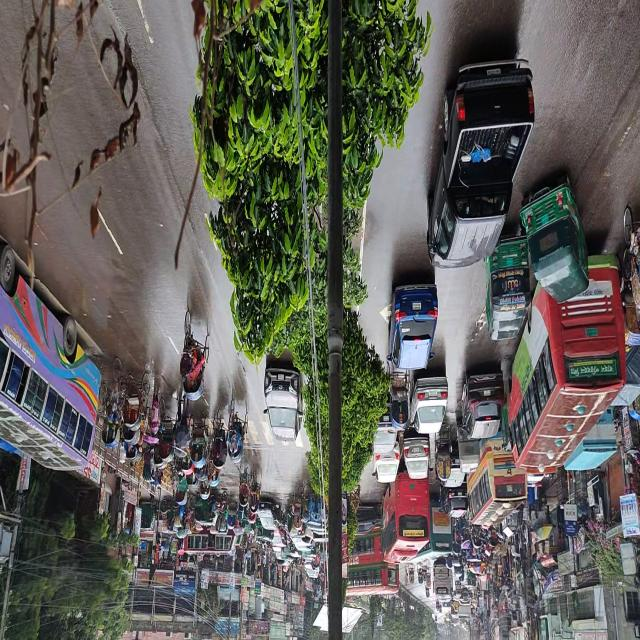black: (426, 61, 534, 266), (460, 366, 506, 438), (262, 364, 302, 442)
blue: (387, 279, 438, 372)
silver: (412, 379, 447, 435), (404, 432, 431, 483)
